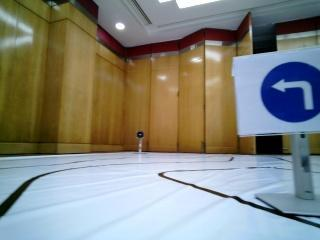left: (232, 58, 320, 127), (272, 161, 272, 162)
